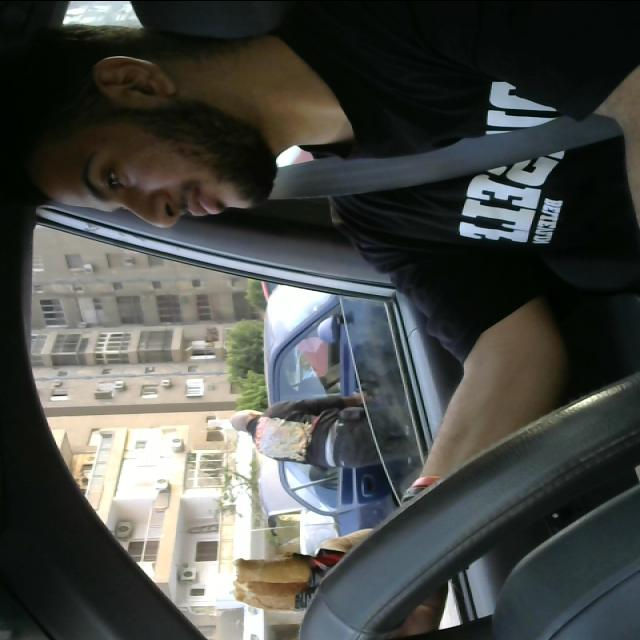eating: (233, 550, 450, 612)
